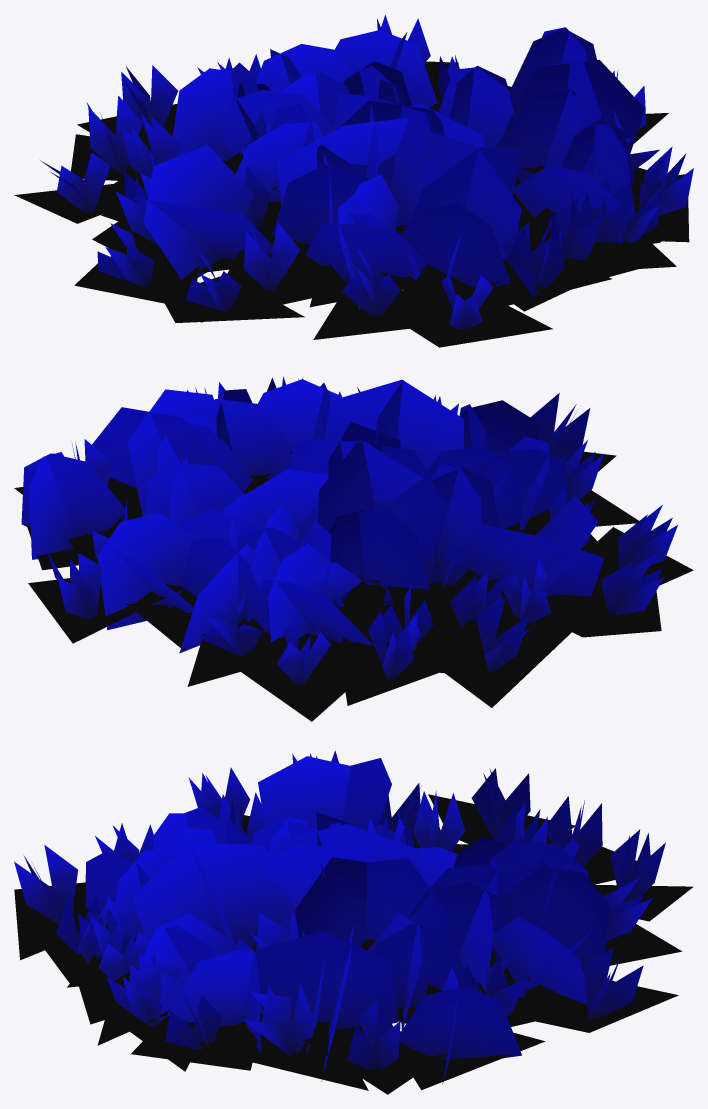
The model's file is SM_WildGrass_S_02.fbx.
3 views of the same model, one above another, from view 1: azimuth 30°, elevation 25°; view 2: azimuth 150°, elevation 25°; view 3: azimuth 270°, elevation 25° (orthographic). The views are drawn at different scales.
Visible parts, largest first — view 1: SM_WildGrass_S_02_LOD0; view 2: SM_WildGrass_S_02_LOD0; view 3: SM_WildGrass_S_02_LOD0.
Boxes of the visible parts, left/top/right/bottom form: SM_WildGrass_S_02_LOD0: left=14, top=15, right=693, bottom=347; SM_WildGrass_S_02_LOD0: left=14, top=377, right=693, bottom=721; SM_WildGrass_S_02_LOD0: left=14, top=750, right=693, bottom=1094.
Bounding box in the file's own units: 124 × 116 × 27.48.
